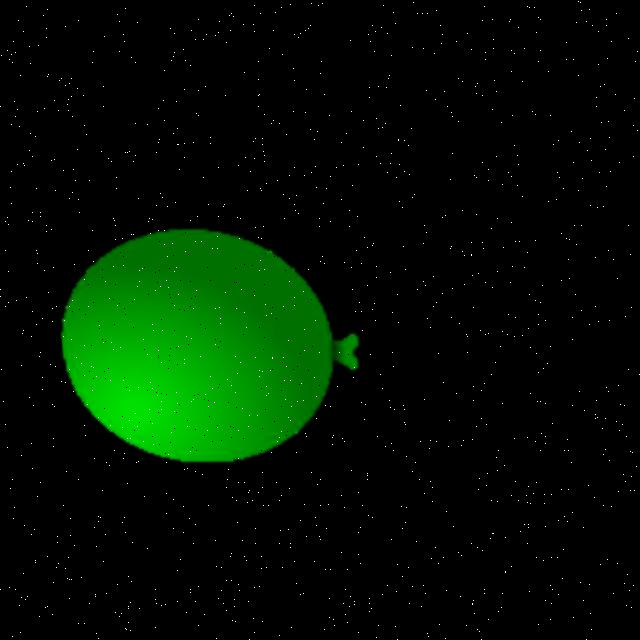balloon: (44, 224, 355, 466)
